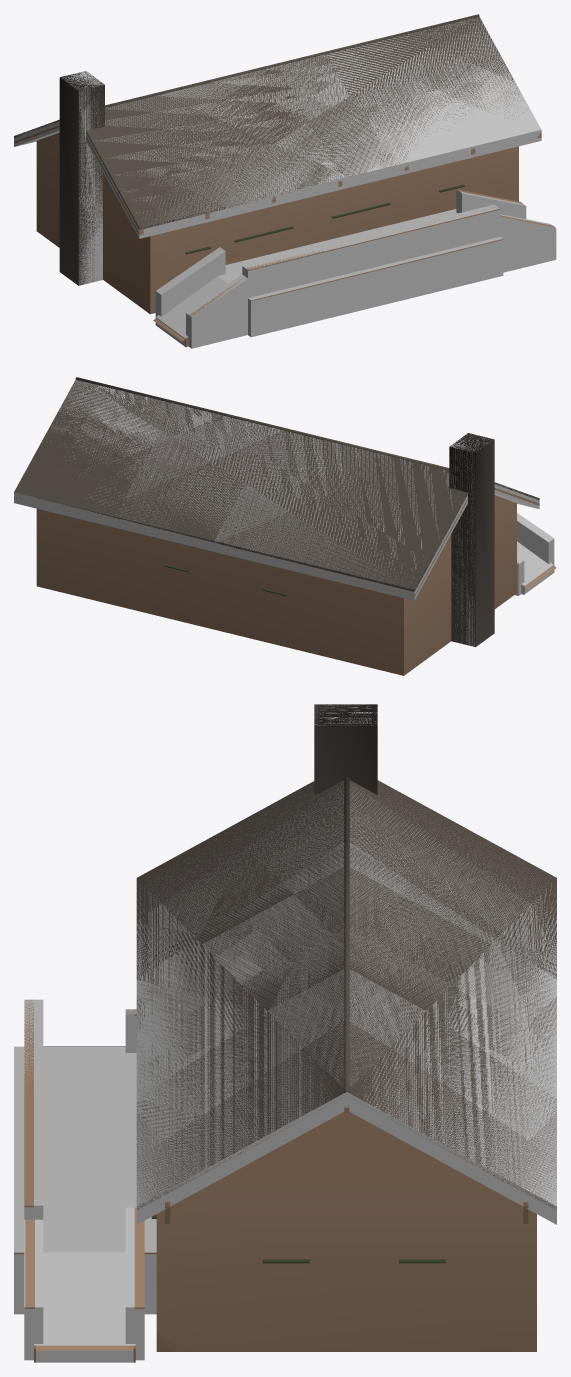
The model's file is cabin1.dae.
The picture shows the model from 3 angles, top to bottom: view 1: azimuth 30°, elevation 25°; view 2: azimuth 150°, elevation 25°; view 3: azimuth 270°, elevation 25°; orthographic projection. The views are drawn at different scales.
Visible parts, largest first — view 1: colmesh-1, cabine1_a400, cabine1_a50; view 2: cabine1_a400, colmesh-1, cabine1_a50, cabine1_a150; view 3: colmesh-1, cabine1_a400, cabine1_a50, cabine1_a150.
Part boxes in pixels (x1,y1,x2,y2): colmesh-1: [14, 18, 556, 348]; cabine1_a400: [14, 14, 555, 346]; cabine1_a50: [103, 146, 518, 341]; cabine1_a400: [14, 377, 554, 675]; colmesh-1: [14, 380, 554, 646]; cabine1_a50: [36, 495, 556, 675]; cabine1_a150: [450, 433, 492, 451]; colmesh-1: [14, 704, 556, 1362]; cabine1_a400: [14, 704, 556, 1362]; cabine1_a50: [36, 1112, 536, 1351]; cabine1_a150: [314, 704, 377, 725].
Size of the model in its own units: 16.75 by 11.42 by 7.81.
